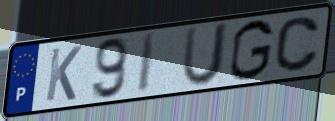9: (91, 36, 130, 100)
C: (273, 15, 322, 75)
G: (227, 18, 276, 83)
I: (136, 31, 160, 95)
K: (43, 44, 84, 104)
U: (179, 21, 231, 90)
